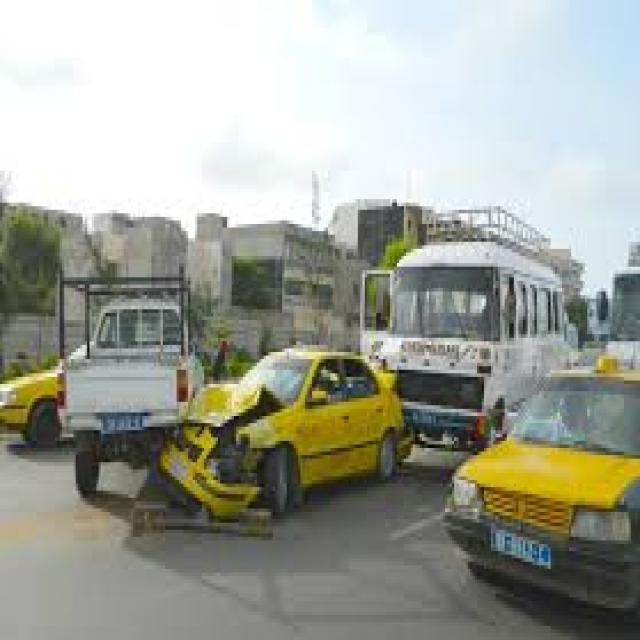ndiaga ndiaye: (361, 206, 571, 443)
particulier: (65, 299, 204, 495)
taxi: (446, 381, 640, 607), (161, 350, 411, 520), (2, 365, 62, 449)
